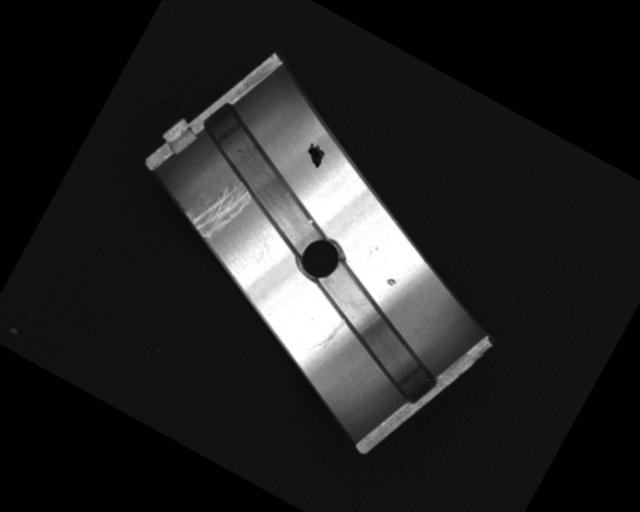blot: (300, 140, 330, 170)
bruise: (385, 275, 398, 287)
gap: (172, 97, 356, 257), (287, 259, 463, 407)
hole: (293, 231, 348, 288)
nick: (309, 312, 347, 359)
scratch: (181, 169, 254, 247)
